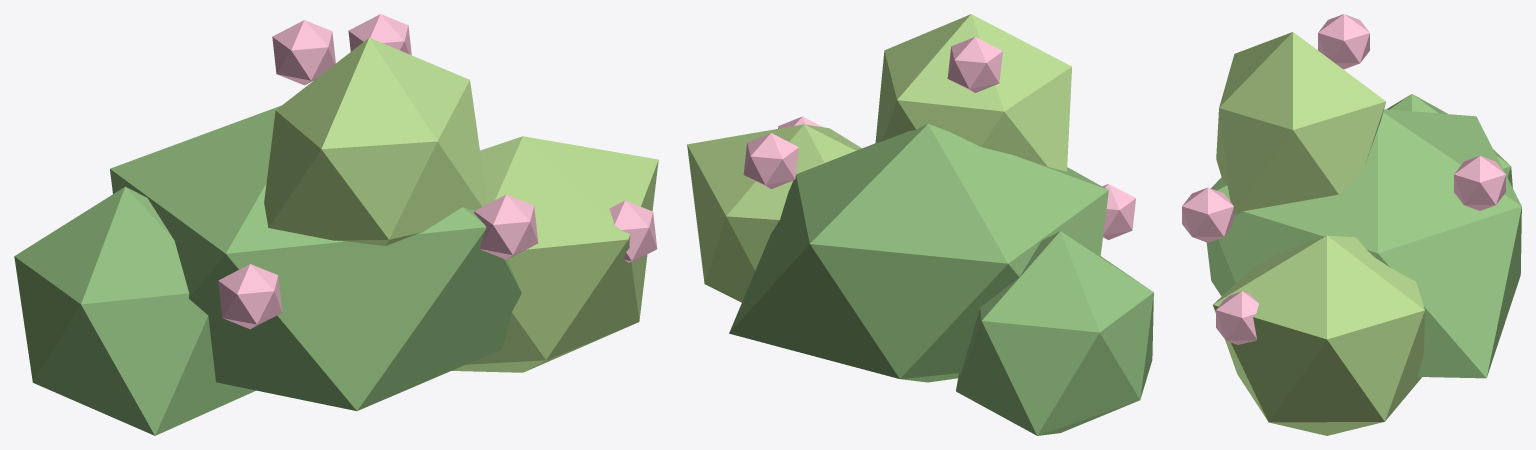
File: bush.glb
3 renders of one model, left to right at view 1: azimuth 30°, elevation 25°; view 2: azimuth 150°, elevation 25°; view 3: azimuth 270°, elevation 25°, orthographic. The views are drawn at different scales.
Parts seen in each view (by area): view 1: bush; view 2: bush; view 3: bush.
Part boxes in pixels (left/top/right/bottom): bush: left=14, top=14, right=658, bottom=435; bush: left=687, top=14, right=1153, bottom=435; bush: left=1182, top=14, right=1521, bottom=435.
Size of the model in its own units: 0.3314 by 0.218 by 0.2.
